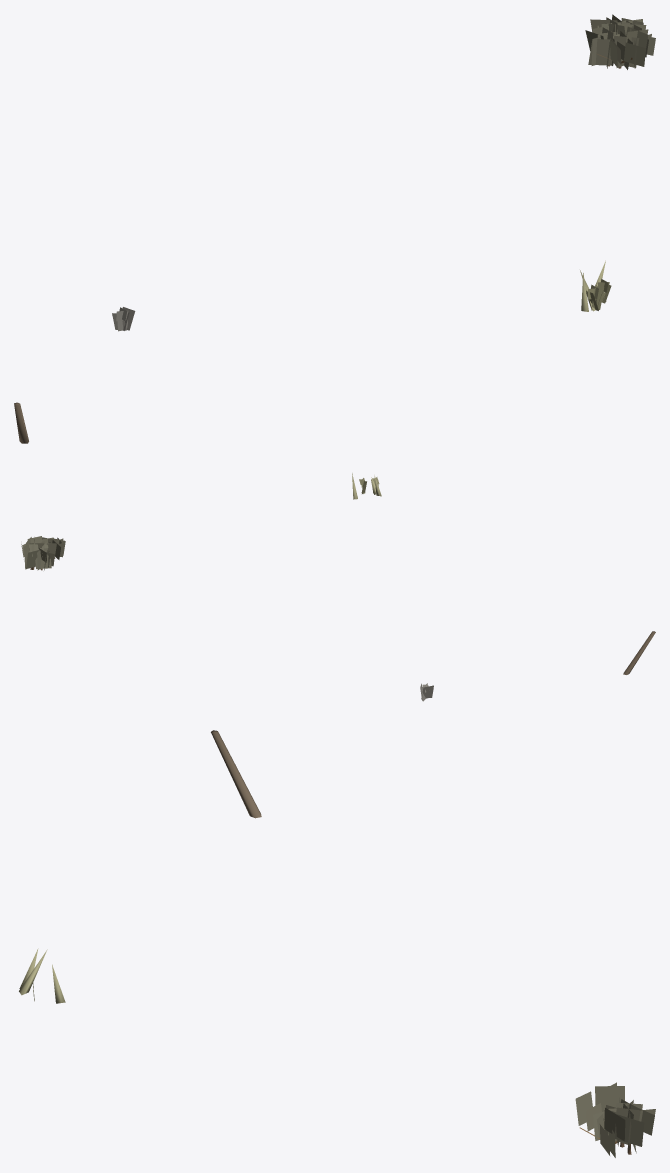
The model's file is coast_land_scatter_c13_19.glb.
3 renders of one model, top to bottom at view 1: azimuth 30°, elevation 25°; view 2: azimuth 150°, elevation 25°; view 3: azimuth 270°, elevation 25°, orthographic. The views are drawn at different scales.
Visible parts, largest first — view 1: coast_land_scatter_c13_19; view 2: coast_land_scatter_c13_19; view 3: coast_land_scatter_c13_19.
Part boxes in pixels (box(x1,y1,x2,y2)): coast_land_scatter_c13_19: box(14, 14, 655, 443); coast_land_scatter_c13_19: box(21, 473, 655, 701); coast_land_scatter_c13_19: box(19, 730, 655, 1157).
Bounding box in the file's own units: 20.98 × 3.56 × 11.94.
